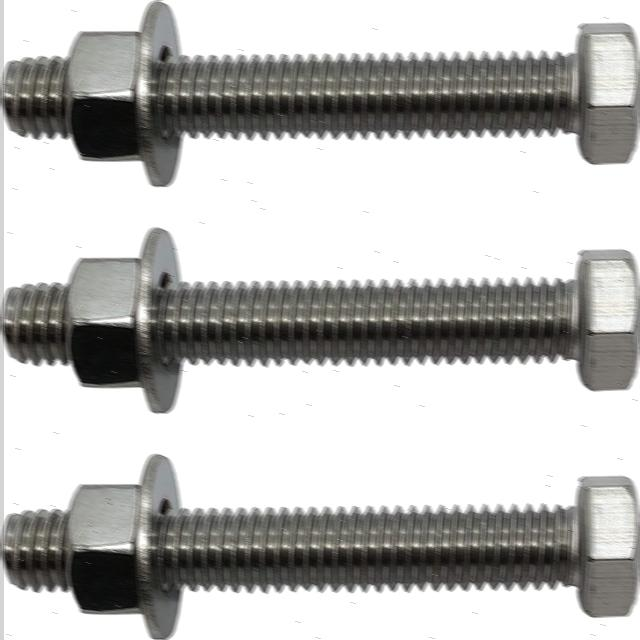Bolt: (0, 20, 639, 166), (0, 475, 637, 619), (0, 250, 637, 393)
Nut: (59, 481, 142, 618), (59, 27, 140, 165), (60, 254, 142, 390)
